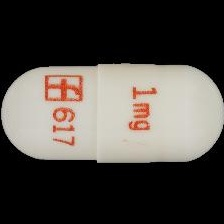55154-8705: (0, 0, 224, 224)
